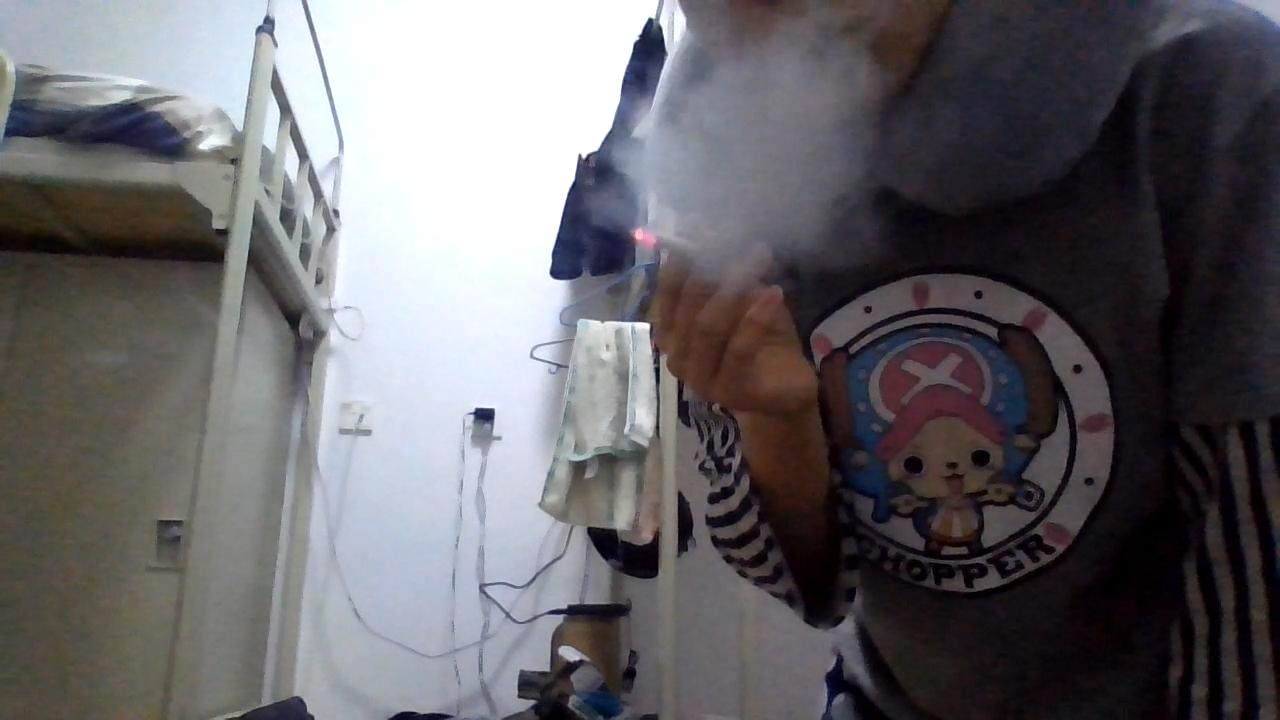yanwu: (585, 16, 891, 283)
